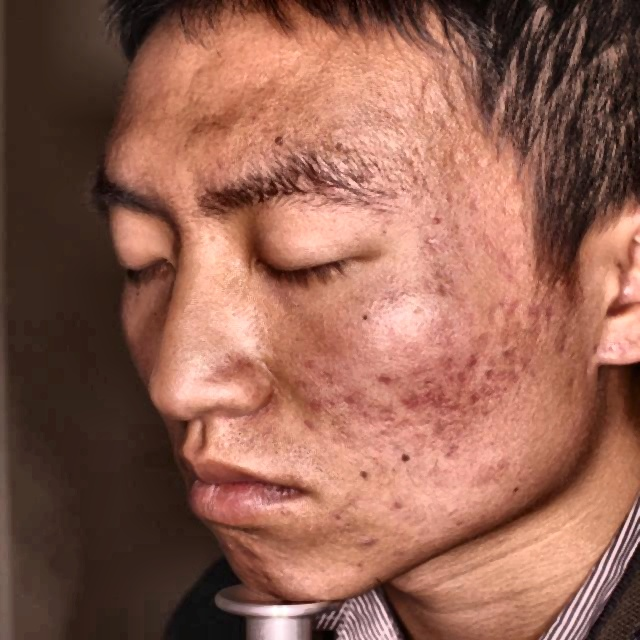pustule: (438, 435, 474, 471), (371, 362, 408, 392), (462, 376, 491, 412), (397, 388, 423, 426), (300, 386, 330, 418), (464, 340, 494, 371), (429, 386, 453, 416), (359, 535, 378, 557)
